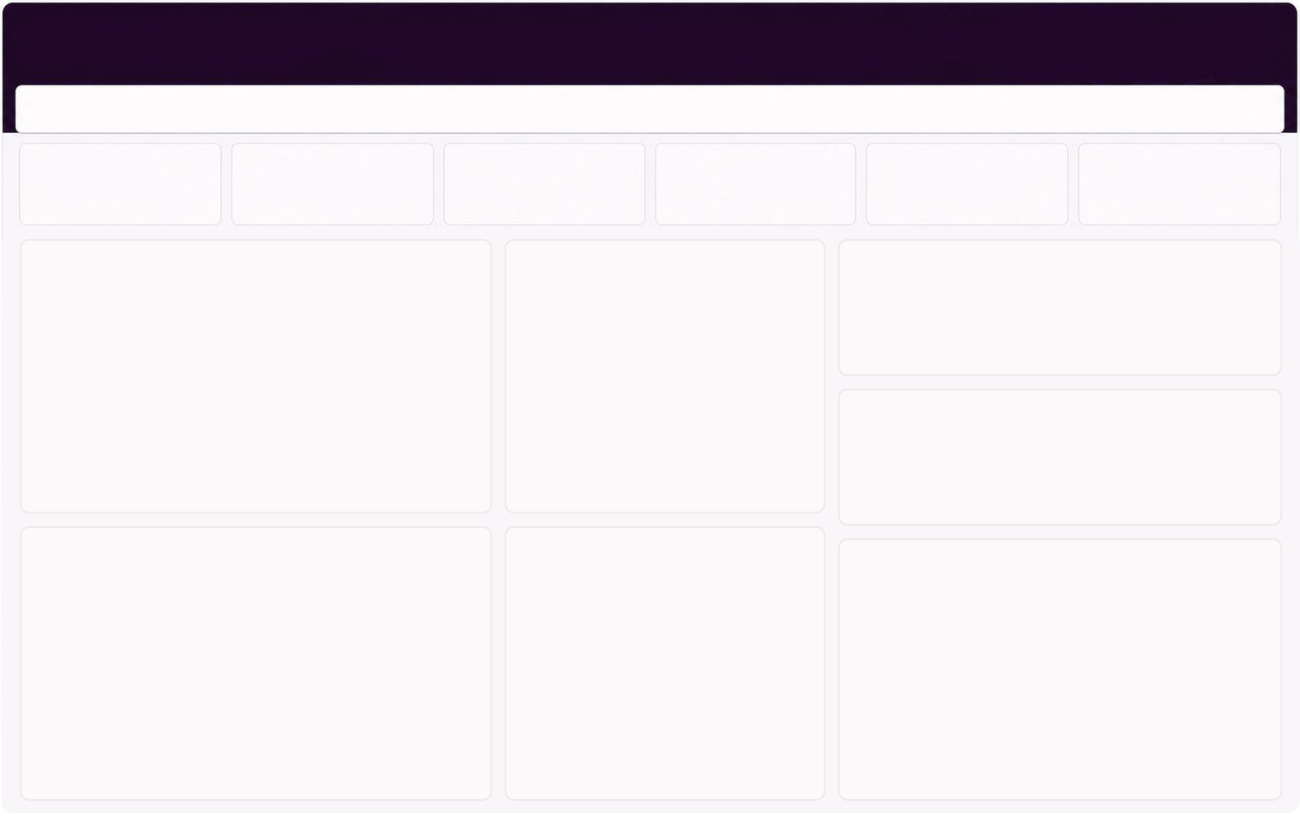

This screenshot's page, from the dashboard's own definition file:
{"tool":"powerbi","page":{"name":"Sales Analytics Overview","canvas":[1280,810],"ordinal":0},"visuals":[{"type":"actionButton","title":"Clear Filters Button","box":[1216,16,48,48],"z":0,"group":"g4"},{"type":"group","id":"g1","title":"Body","box":[16,82,1264,718],"z":0},{"type":"group","id":"g2","title":"Year","box":[944,82,304,48],"z":0,"group":"g7"},{"type":"textbox","box":[32,91,304,32],"z":0,"group":"g9"},{"type":"textbox","box":[336,91,304,32],"z":0,"group":"g8"},{"type":"textbox","box":[640,91,304,32],"z":0,"group":"g5"},{"type":"textbox","box":[944,91,304,32],"z":0,"group":"g2"},{"type":"cardVisual","title":"Quantity per Order","fields":{"Data":["fact_sales.Avg Quantity per Order"]},"box":[1074,128,192,96],"z":0,"group":"g6"},{"type":"group","id":"g3","title":"Visuals","box":[16,224,1264,576],"z":0,"group":"g1"},{"type":"tableEx","title":"Top 10 Customers by Revenue","fields":{"Values":["fact_sales.Customer Rank","dim_customer.customer_name","fact_sales.Total Revenue","fact_sales.Total Orders"]},"box":[829,528,448,272],"z":0,"group":"g3"},{"type":"group","id":"g4","title":"Header","box":[32,13,1232,80],"z":1000},{"type":"textbox","title":"Subtitle","box":[32,48,176,32],"z":1000,"group":"g4"},{"type":"slicer","fields":{"Values":["dim_date.full_date"]},"box":[112,82,192,48],"z":1000,"group":"g9"},{"type":"slicer","fields":{"Values":["dim_date.month_name"]},"box":[432,82,192,48],"z":1000,"group":"g8"},{"type":"group","id":"g5","title":"Quarter","box":[640,82,304,48],"z":1000,"group":"g7"},{"type":"slicer","fields":{"Values":["dim_date.quarter"]},"box":[736,82,192,48],"z":1000,"group":"g5"},{"type":"slicer","fields":{"Values":["dim_date.year"]},"box":[1024,82,192,48],"z":1000,"group":"g2"},{"type":"group","id":"g6","title":"KPIs","box":[30,128,1236,96],"z":1000,"group":"g1"},{"type":"cardVisual","title":"Revenue per Order","fields":{"Data":["fact_sales.Avg Revenue per Order"]},"box":[862,128,192,96],"z":1000,"group":"g6"},{"type":"donutChart","title":"Quantity Sold by Product Category","fields":{"Category":["dim_product.product_category"],"Y":["fact_sales.Total Quantity Sold"]},"box":[496,512,320,288],"z":1000,"group":"g3"},{"type":"textbox","title":"Title","box":[32,13,304,80],"z":2000,"group":"g4"},{"type":"group","id":"g7","title":"Filters","box":[32,82,1216,48],"z":2000,"group":"g1"},{"type":"group","id":"g8","title":"Month","box":[336,82,304,48],"z":2000,"group":"g7"},{"type":"cardVisual","title":"Quantity","fields":{"Data":["fact_sales.Total Quantity Sold"]},"box":[666,128,160,96],"z":2000,"group":"g6"},{"type":"columnChart","title":"Total Revenue (₹) by Category","fields":{"Category":["dim_product.product_category"],"Y":["fact_sales.Total Revenue"]},"box":[16,512,464,288],"z":2000,"group":"g3"},{"type":"group","id":"g9","title":"Date","box":[32,82,304,48],"z":3000,"group":"g7"},{"type":"cardVisual","title":"Orders","fields":{"Data":["fact_sales.Total Orders"]},"box":[464,128,144,96],"z":3000,"group":"g6"},{"type":"barChart","title":"Revenue by Region","fields":{"Category":["dim_region.region"],"Y":["fact_sales.Total Orders"]},"box":[832,373,448,144],"z":3000,"group":"g3"},{"type":"cardVisual","title":"Revenue ($USD)","fields":{"Data":["fact_sales.Total Revenue USD"]},"box":[236,128,176,96],"z":4000,"group":"g6"},{"type":"barChart","title":"Revenue by Region","fields":{"Category":["dim_region.region"],"Y":["fact_sales.Total Revenue"]},"box":[832,224,448,144],"z":4000,"group":"g3"},{"type":"cardVisual","title":"Revenue","fields":{"Data":["fact_sales.Total Revenue"]},"box":[30,128,160,96],"z":5000,"group":"g6"},{"type":"donutChart","title":"Orders by Product Category","fields":{"Category":["dim_product.product_category"],"Y":["fact_sales.Total Orders"]},"box":[496,224,320,288],"z":5000,"group":"g3"},{"type":"lineStackedColumnComboChart","title":"Monthly Revenue Trend","fields":{"Category":["dim_date.month_name"],"Y":["fact_sales.Total Revenue"],"Y2":["fact_sales.Total Orders"]},"box":[16,224,464,288],"z":6000,"group":"g3"}]}

Visuals, with their boxes in screenshot pixels (x1, y1, x2, y2), scaled from the page's 1280x810 canvas onto the 1300x820 screenshot:
"Clear Filters Button" actionButton: (1235, 16, 1284, 65)
"Body" group: (16, 83, 1299, 810)
"Year" group: (959, 83, 1268, 132)
textbox: (32, 92, 341, 125)
textbox: (341, 92, 650, 125)
textbox: (650, 92, 959, 125)
textbox: (959, 92, 1268, 125)
"Quantity per Order" cardVisual: (1091, 130, 1286, 227)
"Visuals" group: (16, 227, 1299, 810)
"Top 10 Customers by Revenue" tableEx: (842, 535, 1297, 810)
"Header" group: (32, 13, 1284, 94)
"Subtitle" textbox: (32, 49, 211, 81)
slicer - dim_date.full_date: (114, 83, 309, 132)
slicer - dim_date.month_name: (439, 83, 634, 132)
"Quarter" group: (650, 83, 959, 132)
slicer - dim_date.quarter: (748, 83, 942, 132)
slicer - dim_date.year: (1040, 83, 1235, 132)
"KPIs" group: (30, 130, 1286, 227)
"Revenue per Order" cardVisual: (875, 130, 1070, 227)
"Quantity Sold by Product Category" donutChart: (504, 518, 829, 810)
"Title" textbox: (32, 13, 341, 94)
"Filters" group: (32, 83, 1268, 132)
"Month" group: (341, 83, 650, 132)
"Quantity" cardVisual: (676, 130, 839, 227)
"Total Revenue (₹) by Category" columnChart: (16, 518, 488, 810)
"Date" group: (32, 83, 341, 132)
"Orders" cardVisual: (471, 130, 618, 227)
"Revenue by Region" barChart: (845, 378, 1299, 523)
"Revenue ($USD)" cardVisual: (240, 130, 418, 227)
"Revenue by Region" barChart: (845, 227, 1299, 373)
"Revenue" cardVisual: (30, 130, 193, 227)
"Orders by Product Category" donutChart: (504, 227, 829, 518)
"Monthly Revenue Trend" lineStackedColumnComboChart: (16, 227, 488, 518)
